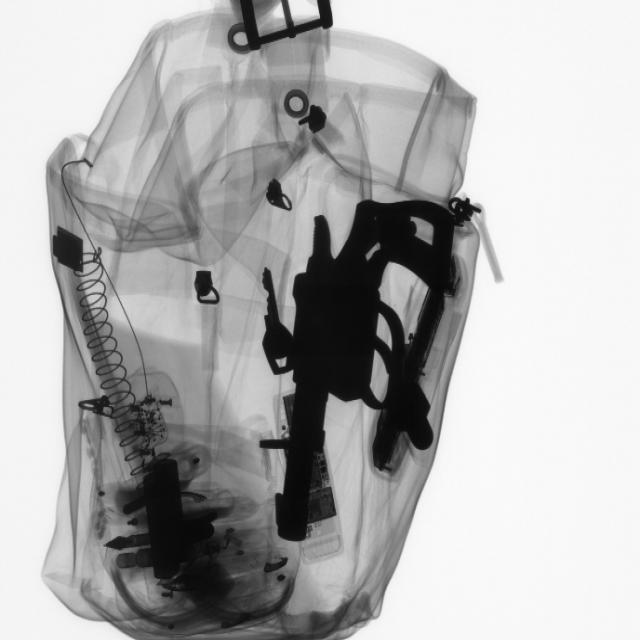GUN: (278, 200, 445, 526)
